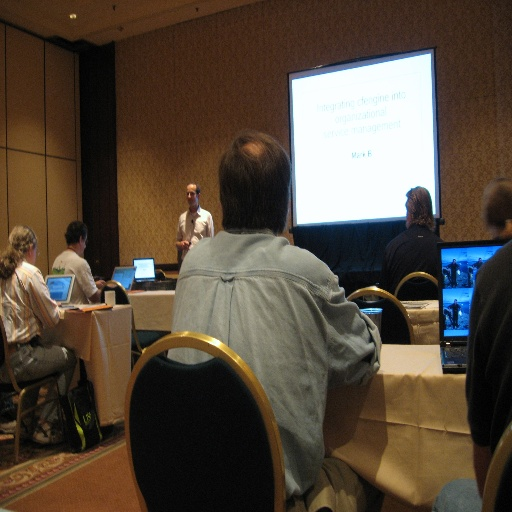hand: (176, 242, 188, 252), (93, 279, 106, 287), (52, 296, 60, 306)
